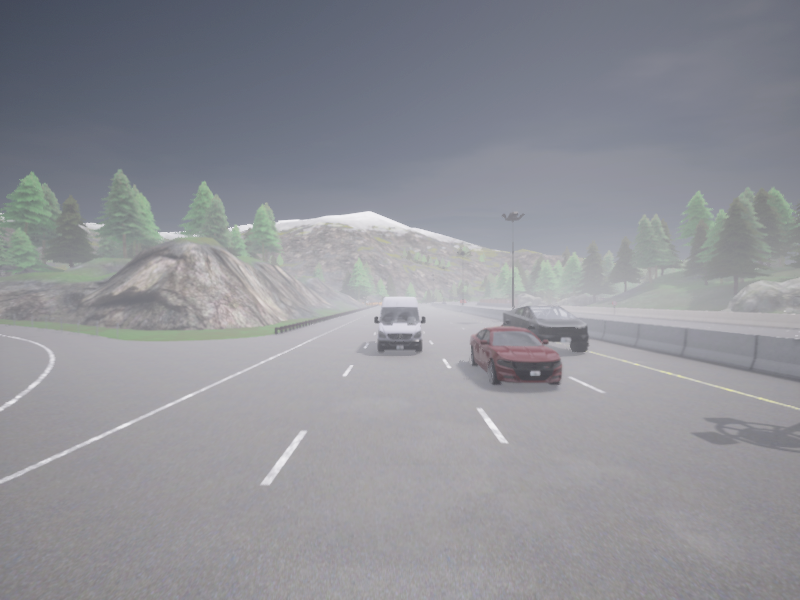vehicle: (470, 325, 562, 384), (503, 306, 588, 353), (374, 297, 424, 353), (460, 299, 466, 304), (441, 302, 445, 303), (466, 300, 467, 302)
